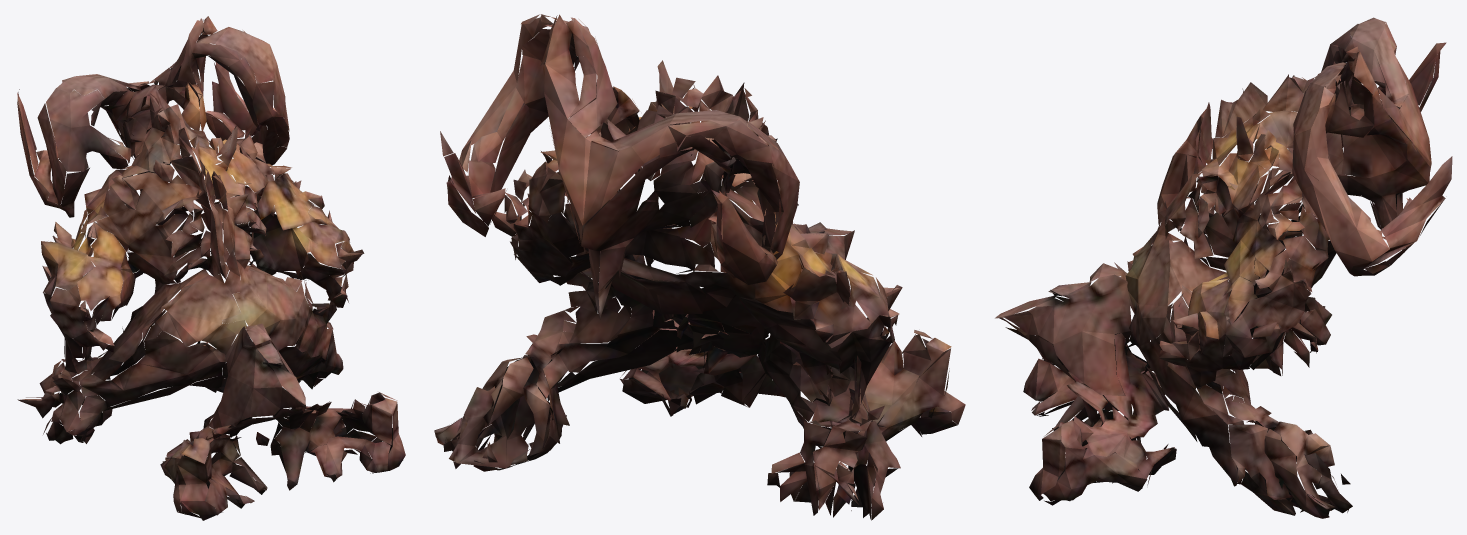
3 views of the same model, side by side, from view 1: azimuth 30°, elevation 25°; view 2: azimuth 150°, elevation 25°; view 3: azimuth 270°, elevation 25° (orthographic). The views are drawn at different scales.
Parts seen in each view (by area): view 1: world; view 2: world; view 3: world.
Boxes of the visible parts, bbox=[...] form: world: bbox=[17, 16, 405, 520]; world: bbox=[434, 14, 965, 520]; world: bbox=[995, 17, 1452, 518].
Size of the model in its own units: 0.8784 by 0.9895 by 0.9569.
1 material, 1 textured.
